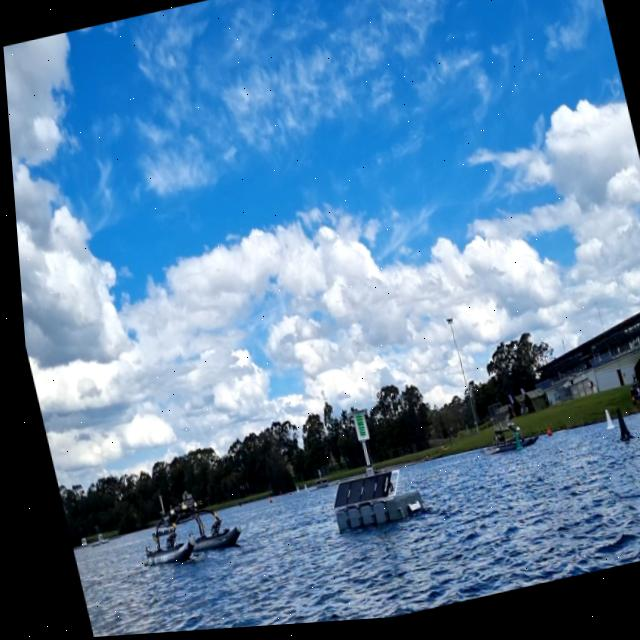led: (346, 417, 362, 445)
